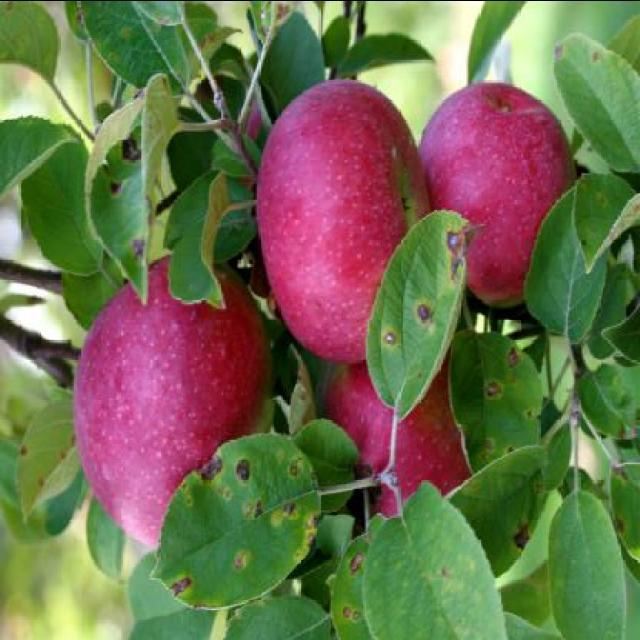Apple pie: (70, 254, 279, 552), (258, 72, 424, 356), (416, 78, 574, 308), (322, 333, 472, 516)
